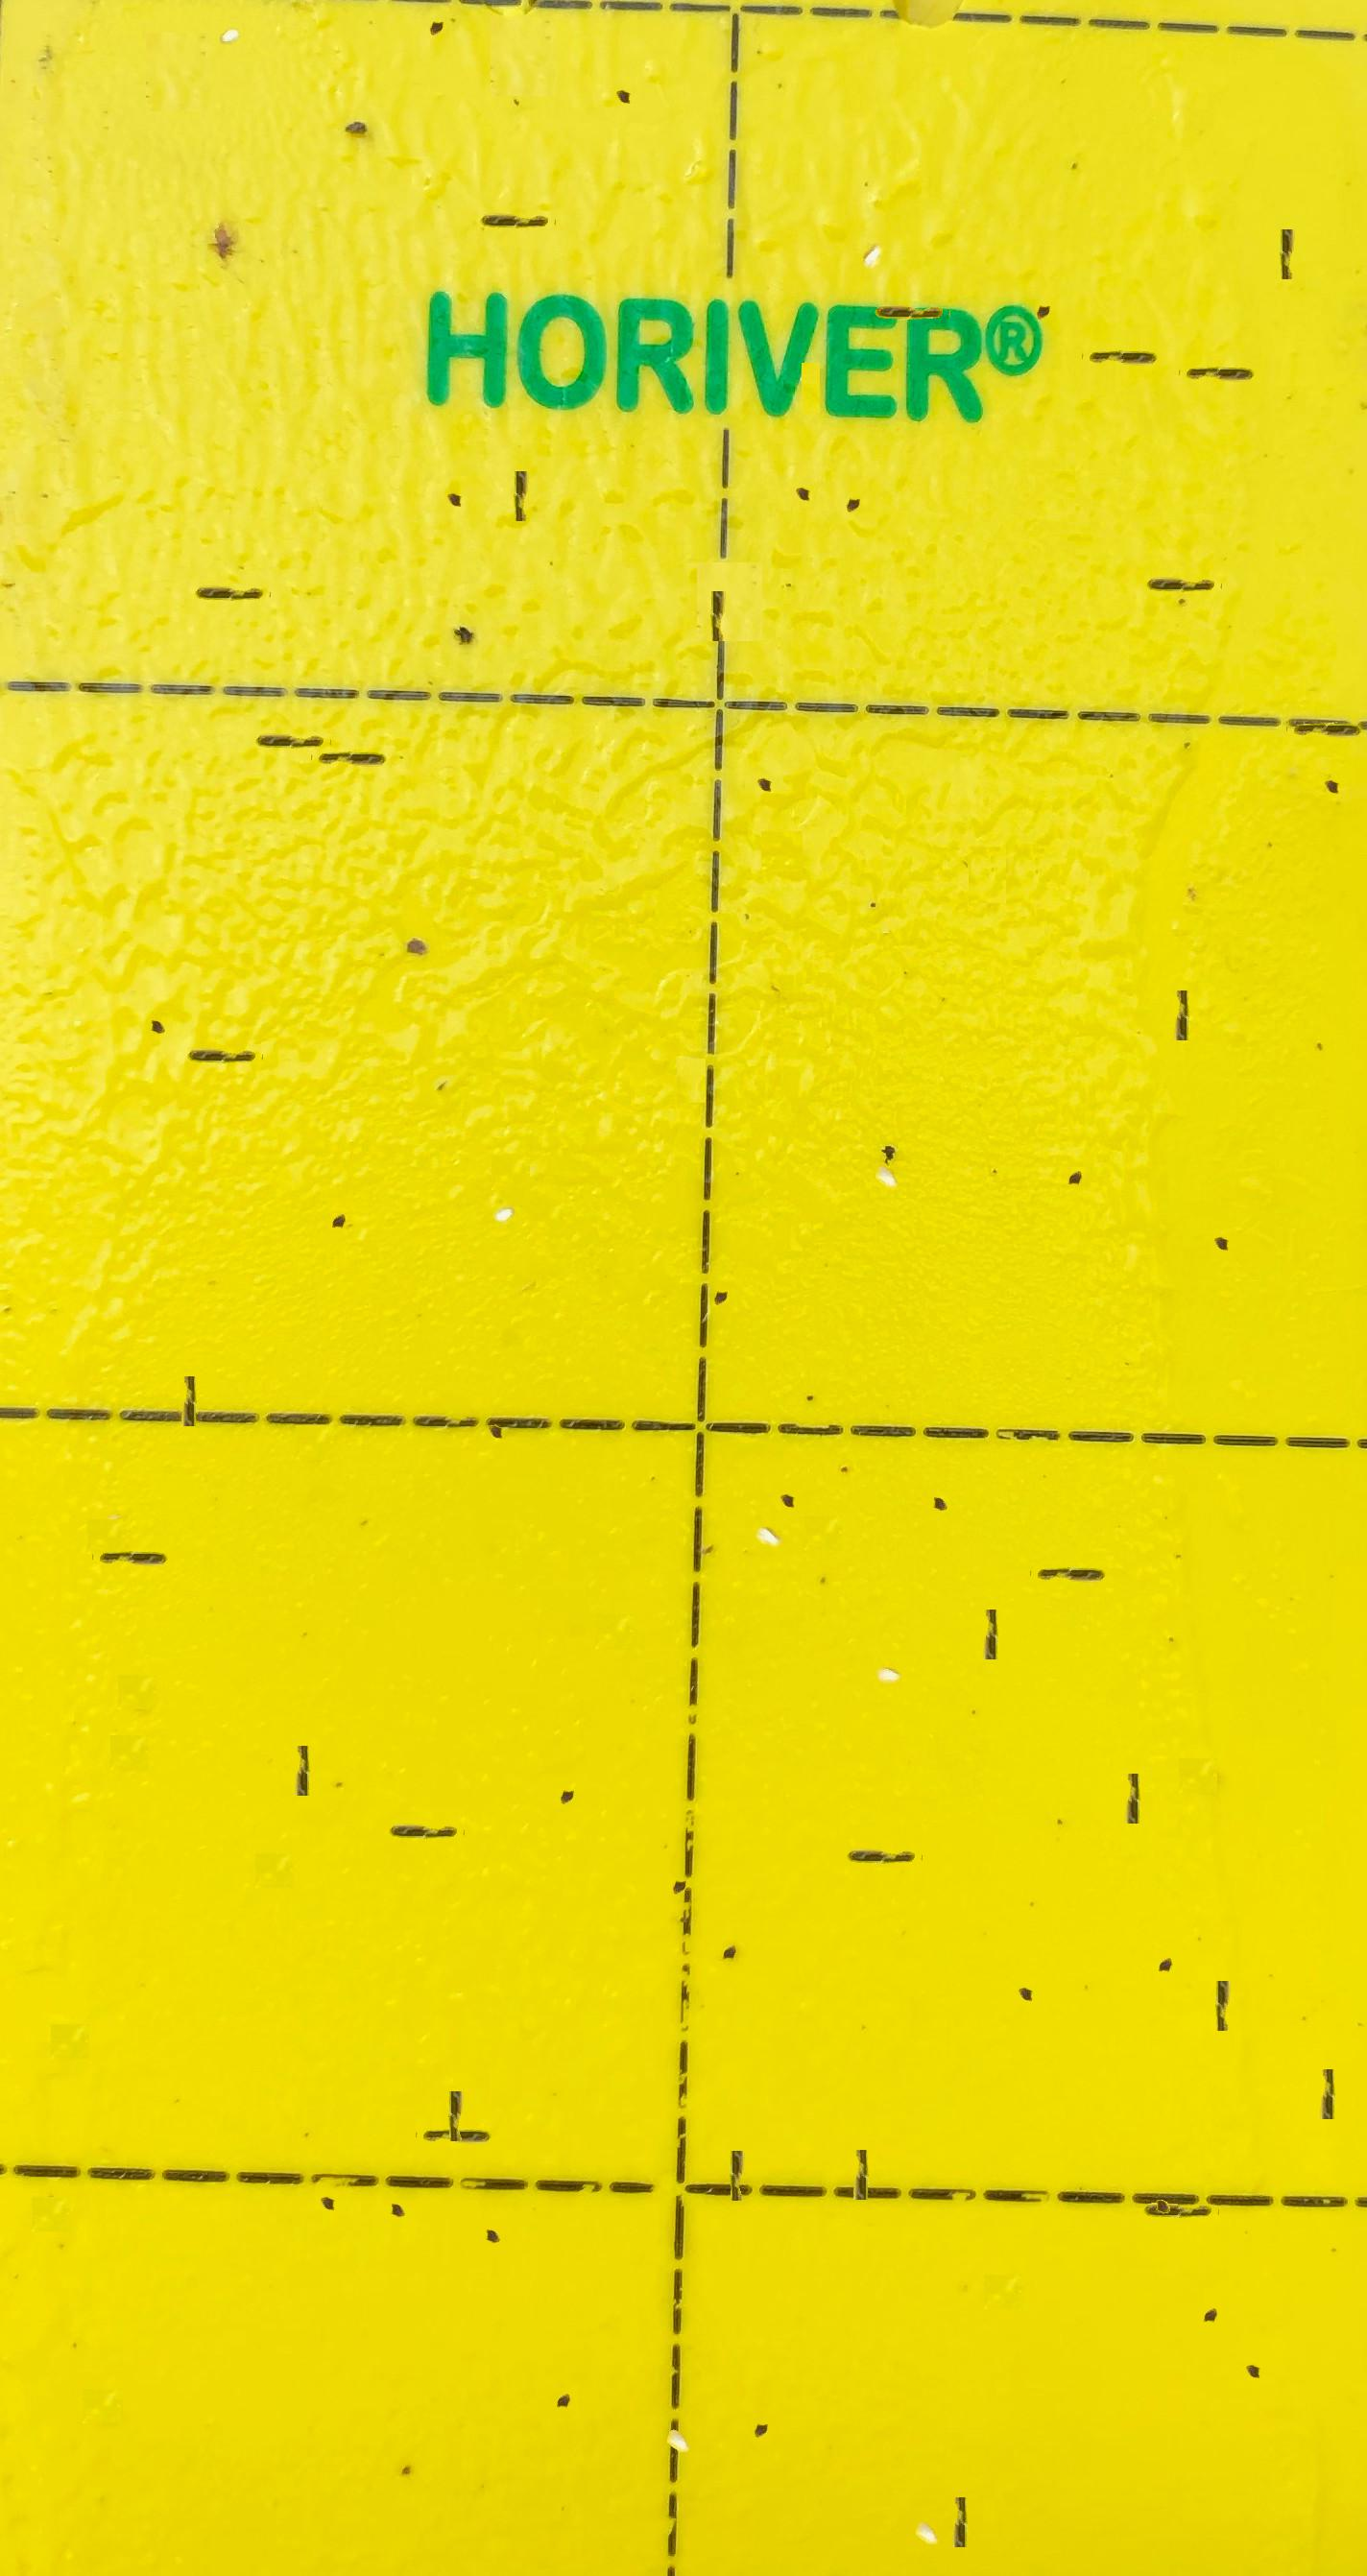white_fly: (482, 1141, 525, 1191), (745, 1470, 787, 1516), (864, 1111, 907, 1155), (905, 2467, 948, 2511), (656, 2375, 699, 2419), (854, 193, 895, 237), (868, 1617, 908, 1654)
